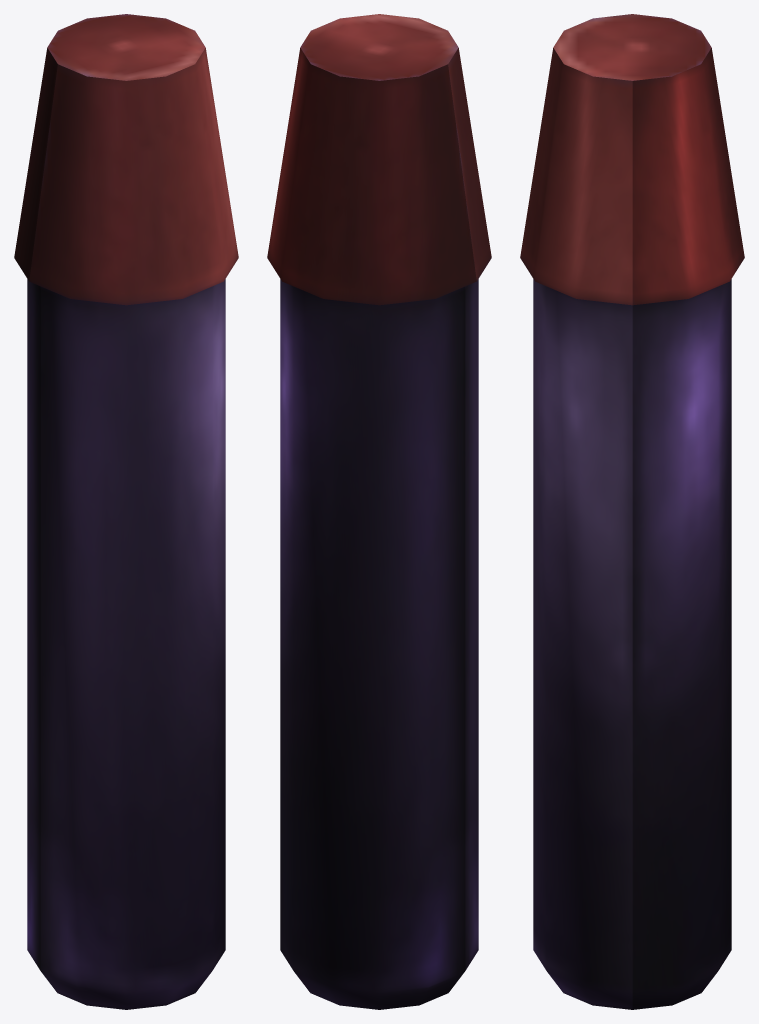
The model's file is XiuXiShi_01_pingzi_05.FBX.
3 renders of one model, left to right at view 1: azimuth 30°, elevation 25°; view 2: azimuth 150°, elevation 25°; view 3: azimuth 270°, elevation 25°, orthographic.
Visible parts, largest first — view 1: XiuXiShi_pingzi_05; view 2: XiuXiShi_pingzi_05; view 3: XiuXiShi_pingzi_05.
Boxes of the visible parts, <box> form: XiuXiShi_pingzi_05: <box>14,14,238,1009</box>; XiuXiShi_pingzi_05: <box>267,14,491,1009</box>; XiuXiShi_pingzi_05: <box>520,14,744,1009</box>.
Bounding box in the file's own units: 33.81 × 154 × 33.81.
